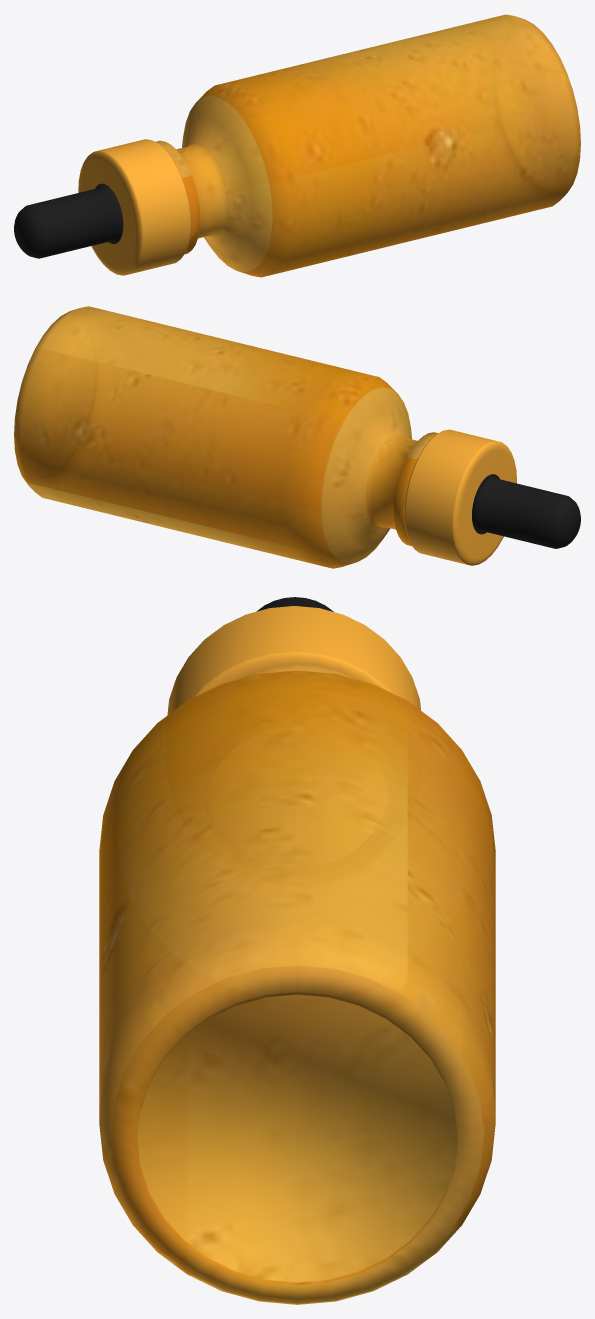
File: SerumBottle5.gltf
3 renders of one model, top to bottom at view 1: azimuth 30°, elevation 25°; view 2: azimuth 150°, elevation 25°; view 3: azimuth 270°, elevation 25°, orthographic. The views are drawn at different scales.
Visible parts, largest first — view 1: Cylinder, Cylinder.001, Cylinder.002; view 2: Cylinder, Cylinder.001, Cylinder.002; view 3: Cylinder, Cylinder.001.
Boxes of the visible parts, x1,y1,x2,y2 form: Cylinder: (155, 14, 580, 277); Cylinder.001: (78, 139, 190, 275); Cylinder.002: (14, 183, 123, 258); Cylinder: (14, 306, 437, 568); Cylinder.001: (404, 429, 516, 565); Cylinder.002: (472, 474, 580, 548); Cylinder: (99, 664, 495, 1304); Cylinder.001: (167, 606, 420, 715).
Bounding box in the file's own units: 4.21 × 1.39 × 1.39.
Materials: 3 (1 with a texture image).
